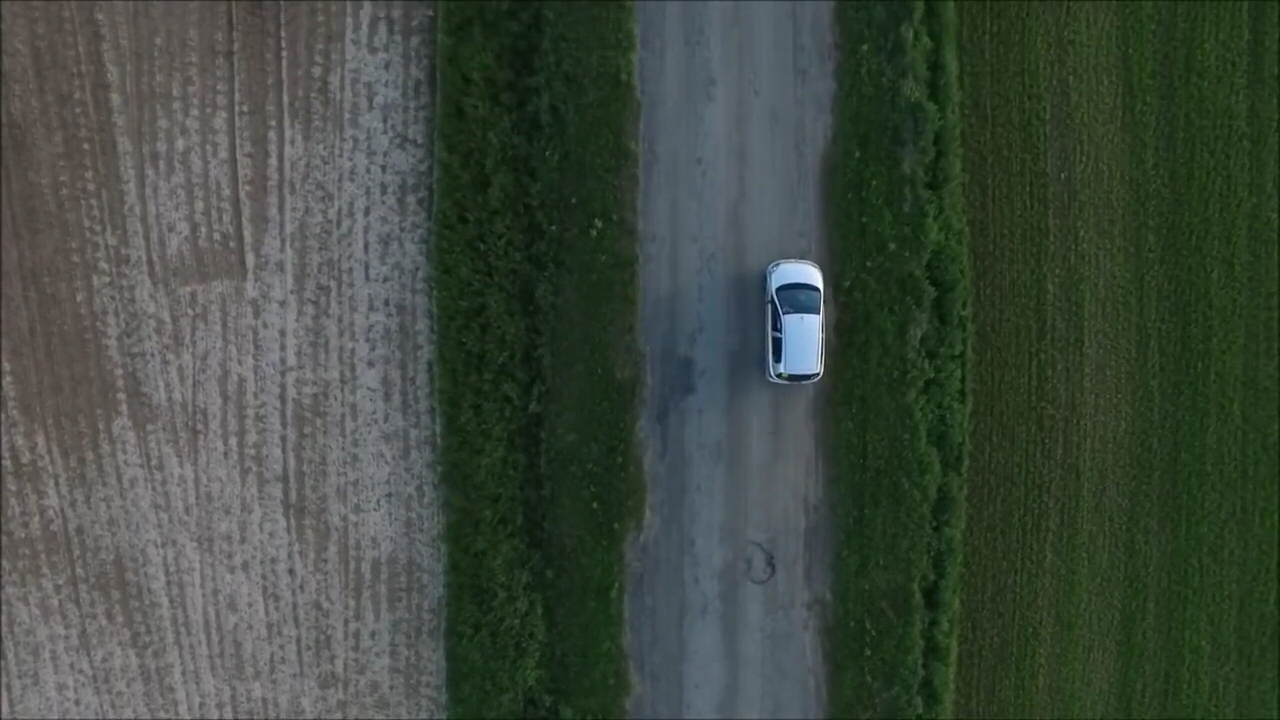araba: (763, 257, 825, 386)
